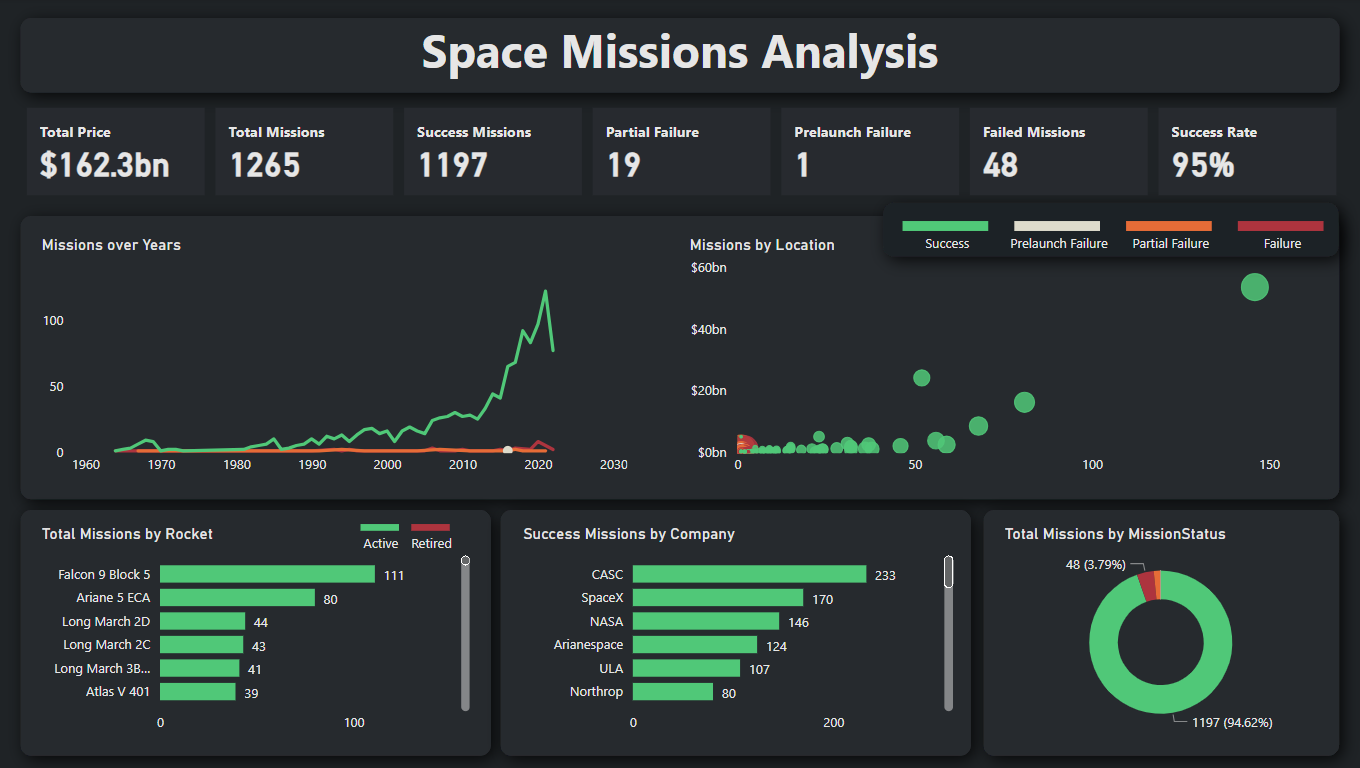

What the dashboard file says about the page in this screenshot:
{"tool":"powerbi","page":{"name":"Space Missions","canvas":[1280,720],"ordinal":0},"visuals":[{"type":"shape","box":[12.2,182.2,1255.3,300],"z":0},{"type":"shape","box":[12.3,454.3,472.7,265.5],"z":1000},{"type":"shape","box":[455.8,454.3,472.7,265.5],"z":2000},{"type":"shape","box":[900.9,454.3,366.8,265.5],"z":3000},{"type":"shape","title":"s","box":[12.3,0,1255.4,107.4],"z":4000},{"type":"lineChart","title":"Missions over Years","fields":{"Category":["Date Table.Year"],"Y":["All Measures.Total Missions"],"Series":["Space Missions.MissionStatus"]},"box":[41.3,214.3,560.3,240.3],"z":5000},{"type":"scatterChart","title":"Missions by Location","fields":{"X":["All Measures.Total Missions"],"Category":["Space Missions.Location"],"Y":["Space Missions.Total Price"],"Series":["Space Missions.MissionStatus"],"Size":["Space Missions.Count of MissionStatus for Success"]},"box":[639.9,214.3,597,240.3],"z":6000},{"type":"barChart","fields":{"Category":["Space Missions.Company"],"Y":["Space Missions.Count of MissionStatus for Success"]},"box":[485.3,482.2,416.4,211.3],"z":7000},{"type":"barChart","fields":{"Y":["All Measures.Total Missions"],"Category":["Space Missions.Rocket"]},"box":[41.3,482.2,414.9,211.3],"z":8000},{"type":"donutChart","fields":{"Y":["All Measures.Total Missions"],"Category":["Space Missions.MissionStatus"]},"box":[929.2,482.2,307.7,211.3],"z":9000},{"type":"shape","box":[808.3,169.9,459.3,88.8],"z":11000},{"type":"columnChart","fields":{"Category":["Space Missions.MissionStatus"],"Y":["Space Missions.Legend"]},"box":[794.5,192.9,485.3,58.2],"z":11500},{"type":"columnChart","fields":{"Category":["Space Missions.RocketStatus"],"Y":["Space Missions.Legend"]},"box":[293.1,471.2,179.6,55.3],"z":11501},{"type":"cardVisual","fields":{"Data":["Space Missions.Total Price","All Measures.Total Missions","Space Missions.Count of MissionStatus for Success","Space Missions.Count of MissionStatus for Partial Failure","Space Missions.Count of MissionStatus for Prelaunch Failure","Space Missions.Count of MissionStatus for Failure","Space Missions.Count of MissionStatus for Success divided by Total Missions"]},"box":[27.6,96.4,1229.3,96.4],"z":11502}]}

Visuals, with their boxes in screenshot pixels (x1, y1, x2, y2), scaled from the page's 1280x720 canvas onto the 1360x768 screenshot:
shape: (left=13, top=194, right=1347, bottom=514)
shape: (left=13, top=485, right=515, bottom=767)
shape: (left=484, top=485, right=987, bottom=767)
shape: (left=957, top=485, right=1347, bottom=767)
"s" shape: (left=13, top=0, right=1347, bottom=115)
"Missions over Years" lineChart: (left=44, top=229, right=639, bottom=485)
"Missions by Location" scatterChart: (left=680, top=229, right=1314, bottom=485)
barChart - Space Missions.Company x Space Missions.Count of MissionStatus for Success: (left=516, top=514, right=958, bottom=740)
barChart - All Measures.Total Missions x Space Missions.Rocket: (left=44, top=514, right=485, bottom=740)
donutChart - All Measures.Total Missions x Space Missions.MissionStatus: (left=987, top=514, right=1314, bottom=740)
shape: (left=859, top=181, right=1347, bottom=276)
columnChart - Space Missions.MissionStatus x Space Missions.Legend: (left=844, top=206, right=1359, bottom=268)
columnChart - Space Missions.RocketStatus x Space Missions.Legend: (left=311, top=503, right=502, bottom=562)
cardVisual - Space Missions.Total Price x All Measures.Total Missions: (left=29, top=103, right=1335, bottom=206)
